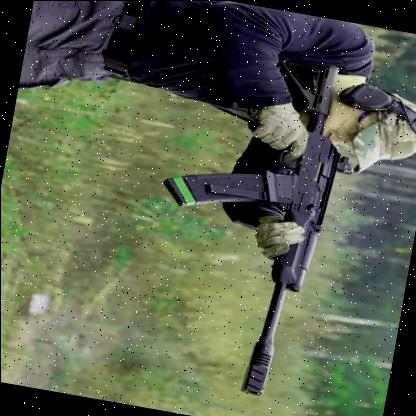rifle: (140, 39, 372, 410)
